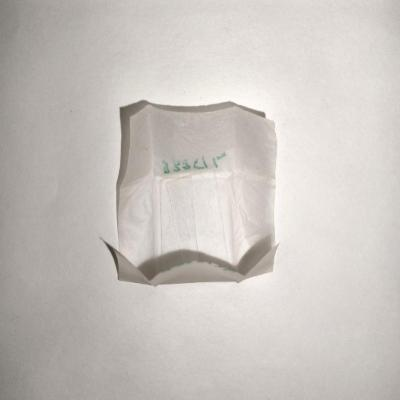other: (104, 100, 278, 287)
